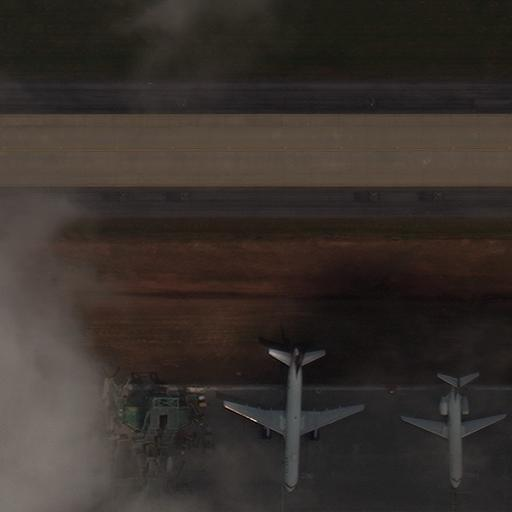Large Civil Transport: (224, 343, 364, 495)
Medium Civil Transport: (402, 373, 506, 492)
